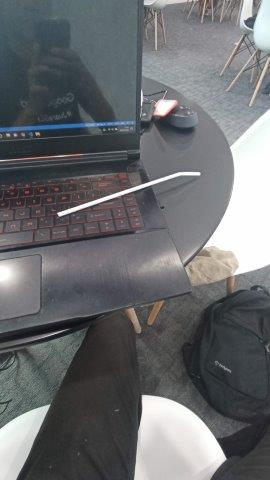sedotan: (57, 172, 200, 217)
